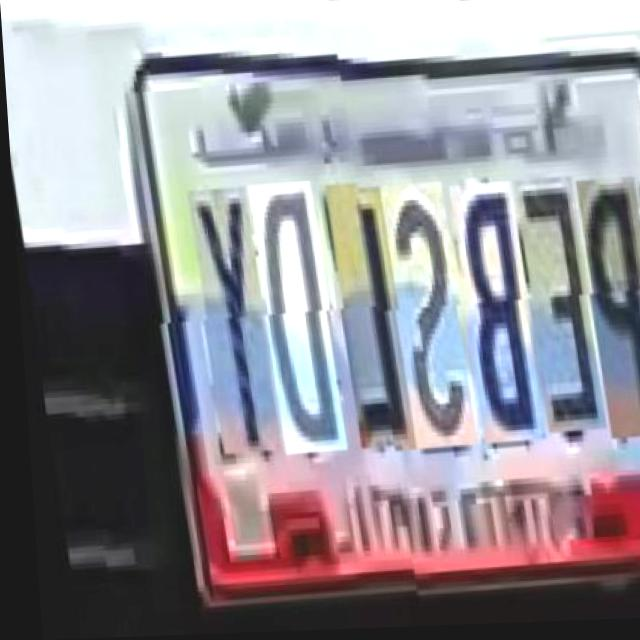b: (438, 183, 531, 446)
d: (238, 186, 333, 459)
e: (503, 180, 591, 436)
l: (315, 186, 401, 454)
p: (565, 180, 640, 443)
s: (369, 182, 463, 450)
y: (177, 189, 266, 457)
